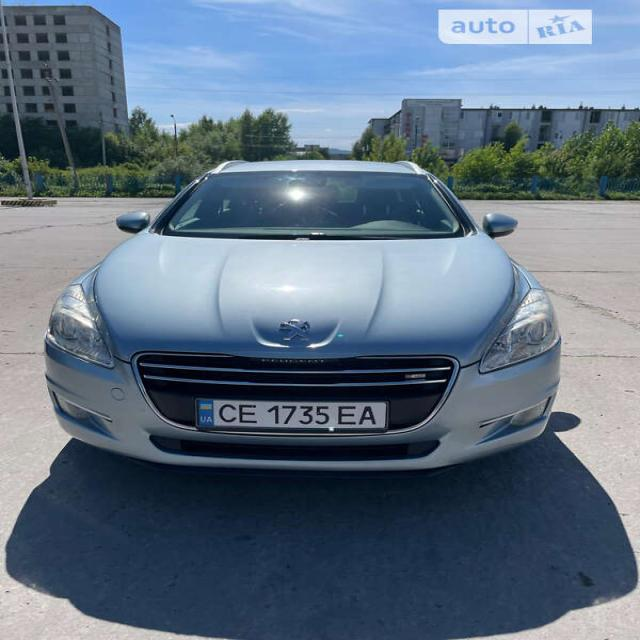plate: (188, 392, 400, 436)
